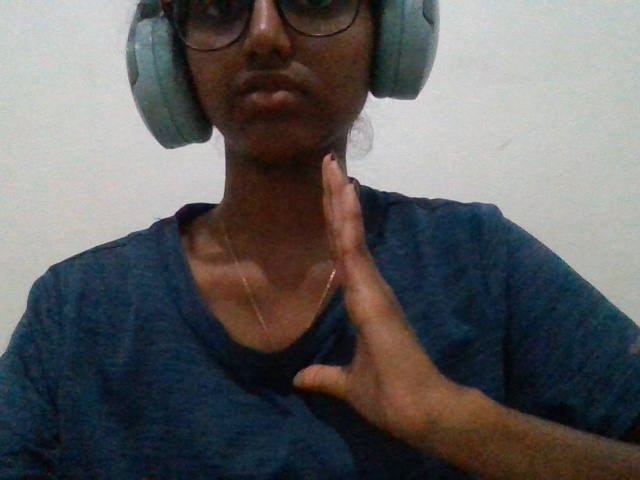Fine: (218, 123, 515, 480)
